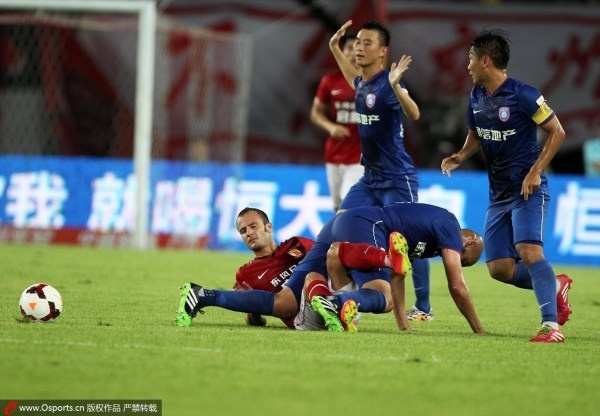falling: (183, 198, 478, 334)
